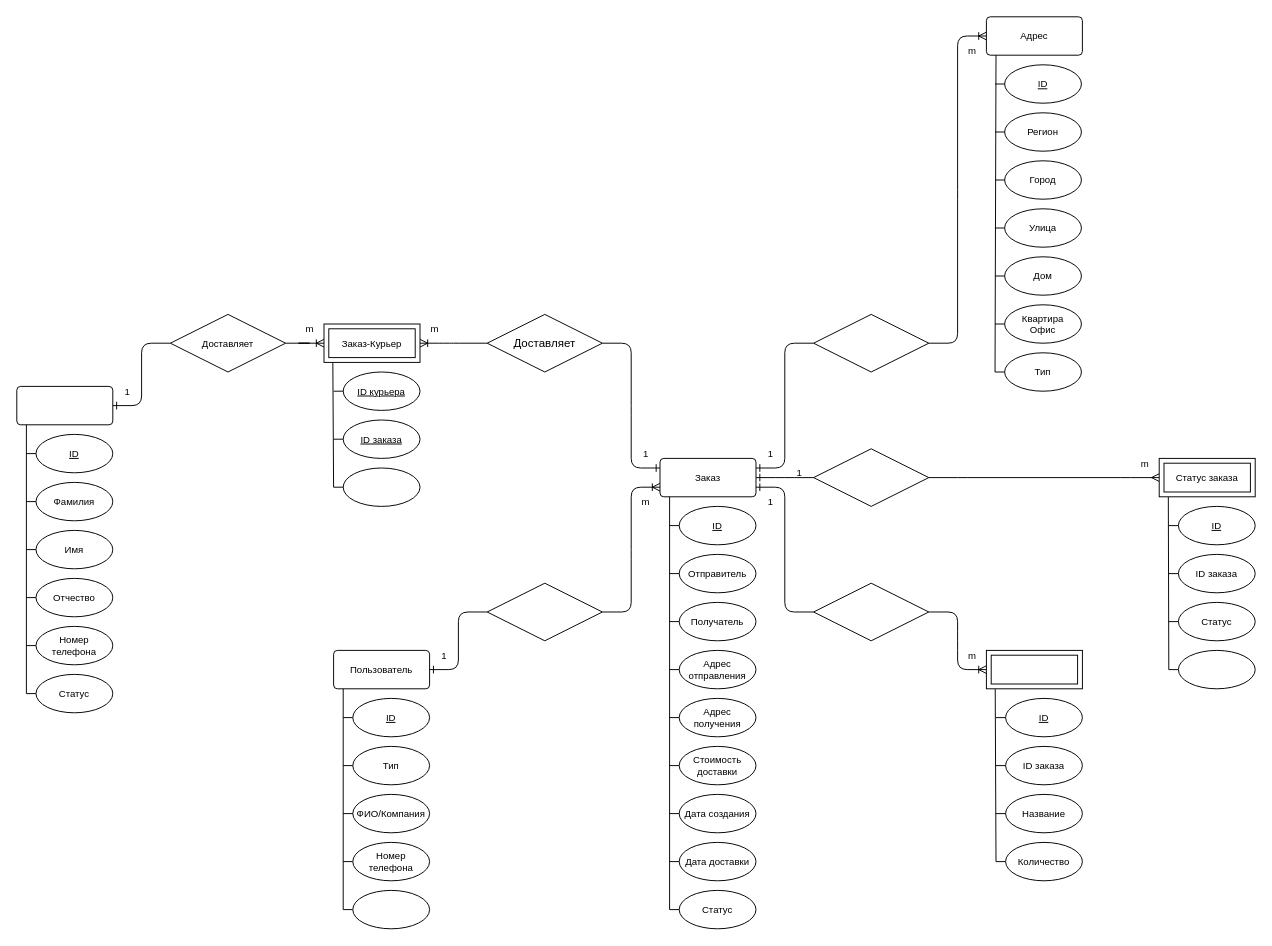
Some shapes in this 1272 by 946 pixel diagram are drawn without their labels. Here are the shapes that lost their labels. From the top down, the centre of each, then its label:
At (871,342): "Отправляется из Доставляется на".
At (64,405): "Курьер".
At (381,486): "Время назначения".
At (871,477): "Имеет".
At (544,611): "Отправляет Получает".
At (871,611): "Содержит".
At (1033,669): "Состав Заказа".
At (1216,669): "Время обновления".
At (391,909): "Email".
